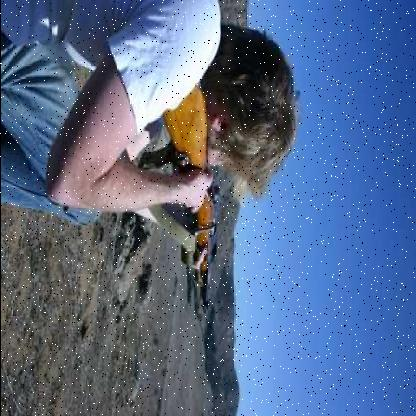rifle: (138, 74, 235, 334)
